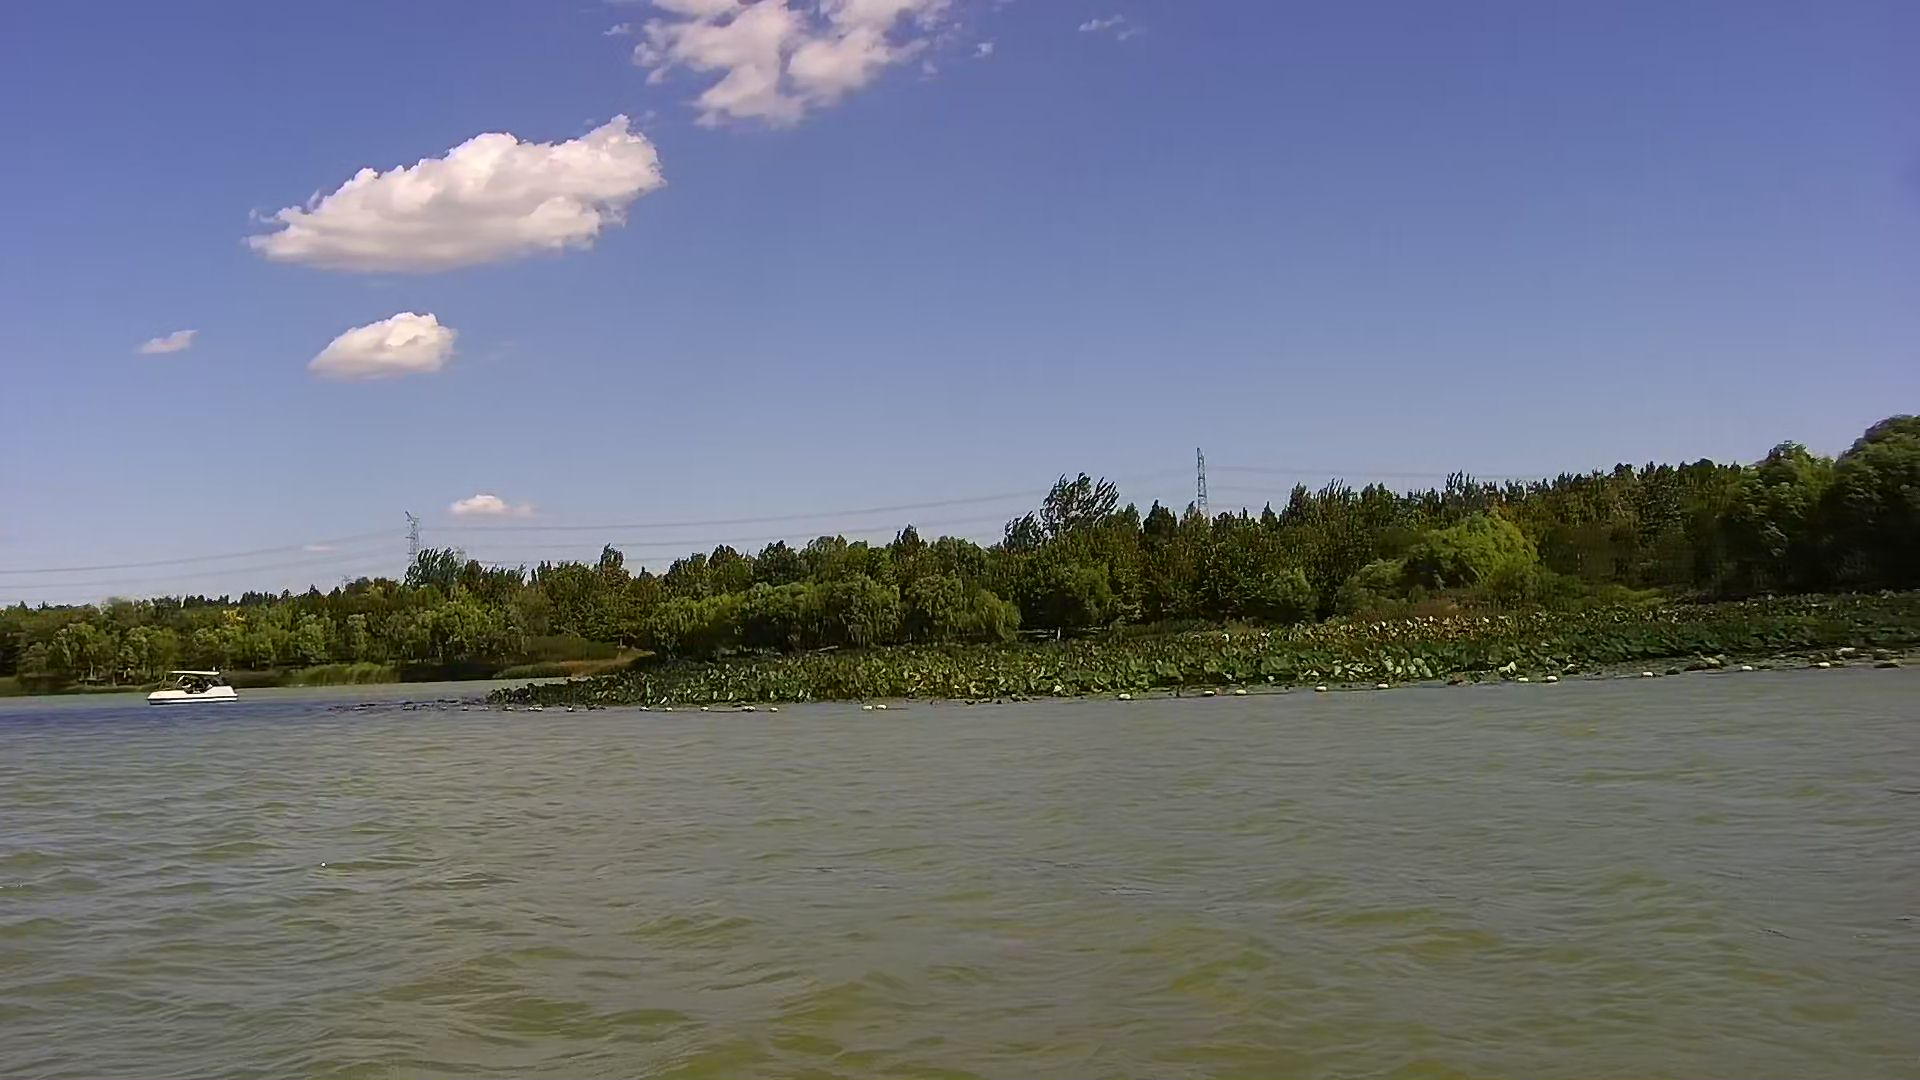boat: (142, 669, 243, 708)
